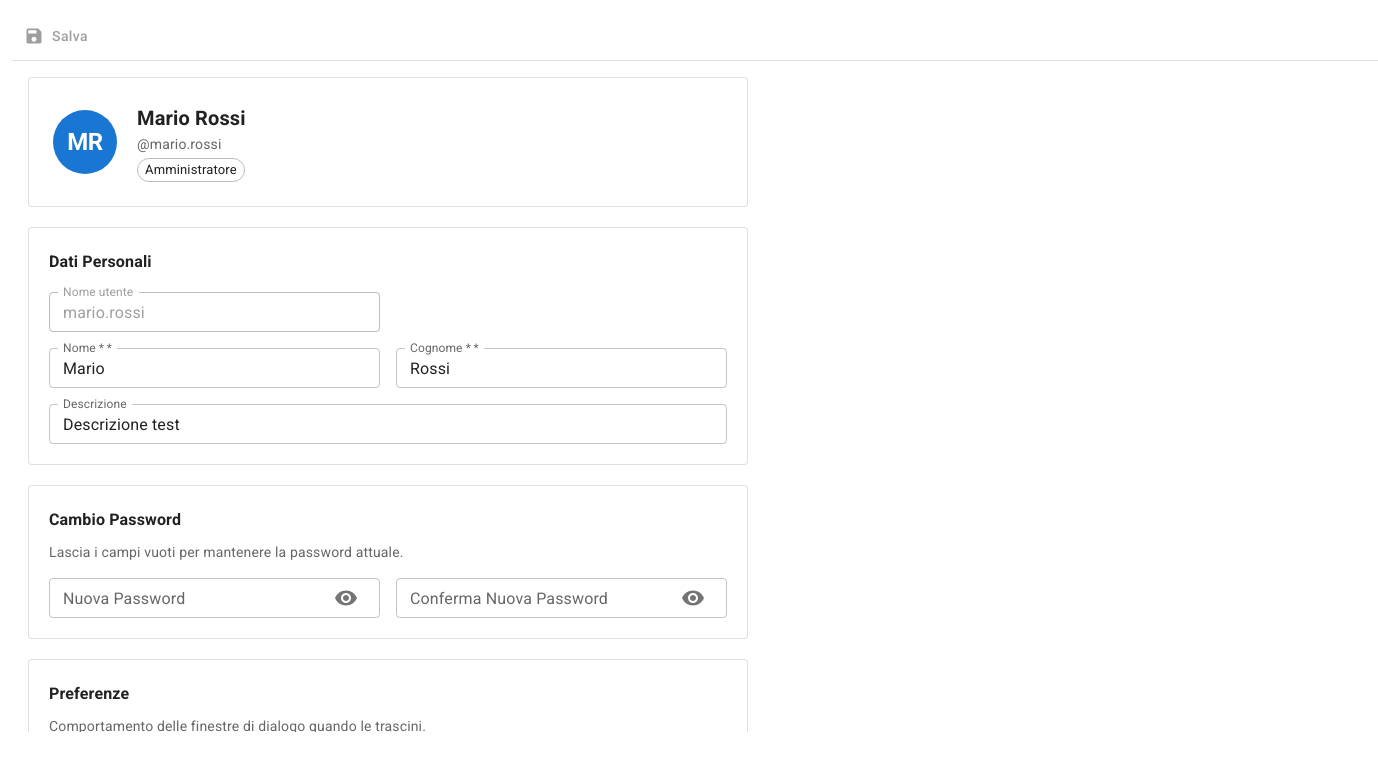
Test: ProfilePage › deve mostrare errore per password mismatch
Type "password123" into the password field labelled "Nuova Password" at (184, 598), box [49,578,318,618]
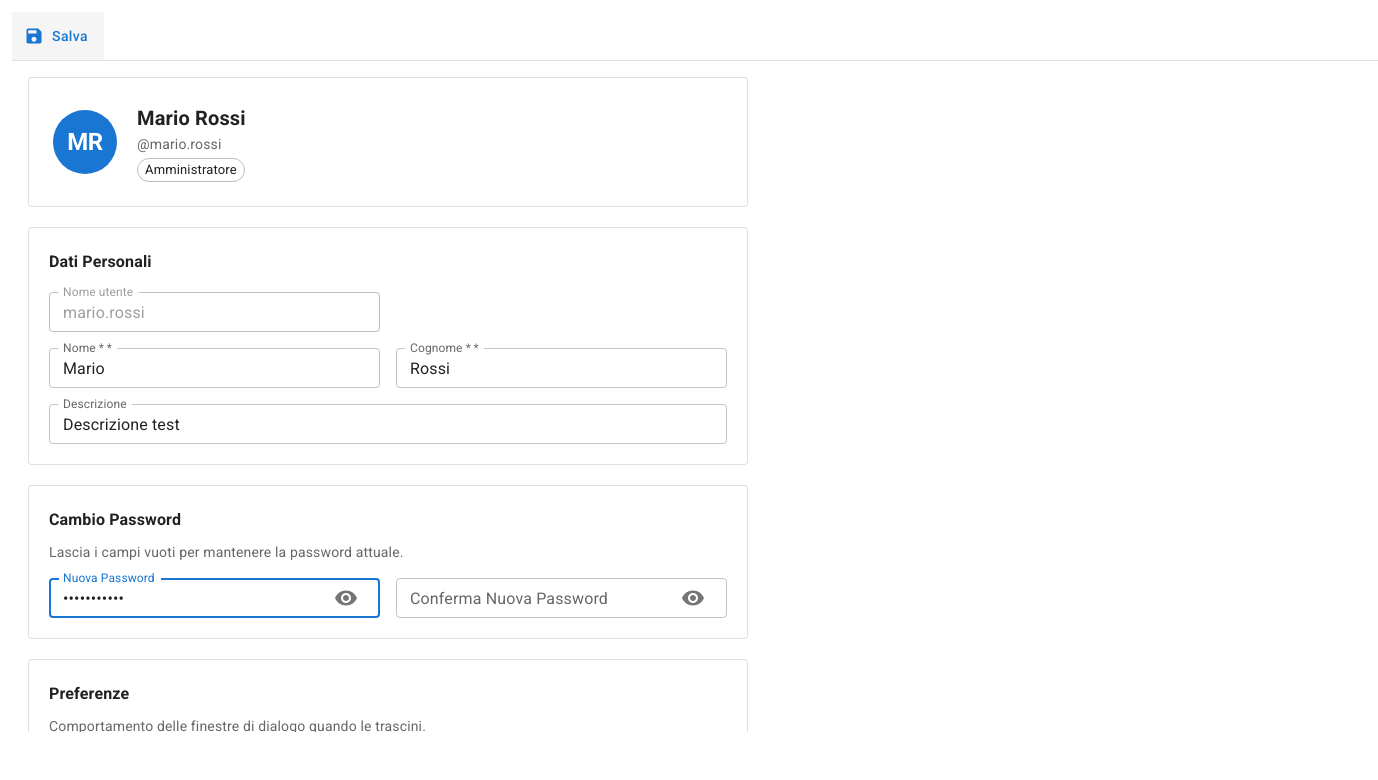
Type "diversa123" into the password field labelled "Conferma Nuova Password" at (530, 598), box [396,578,665,618]
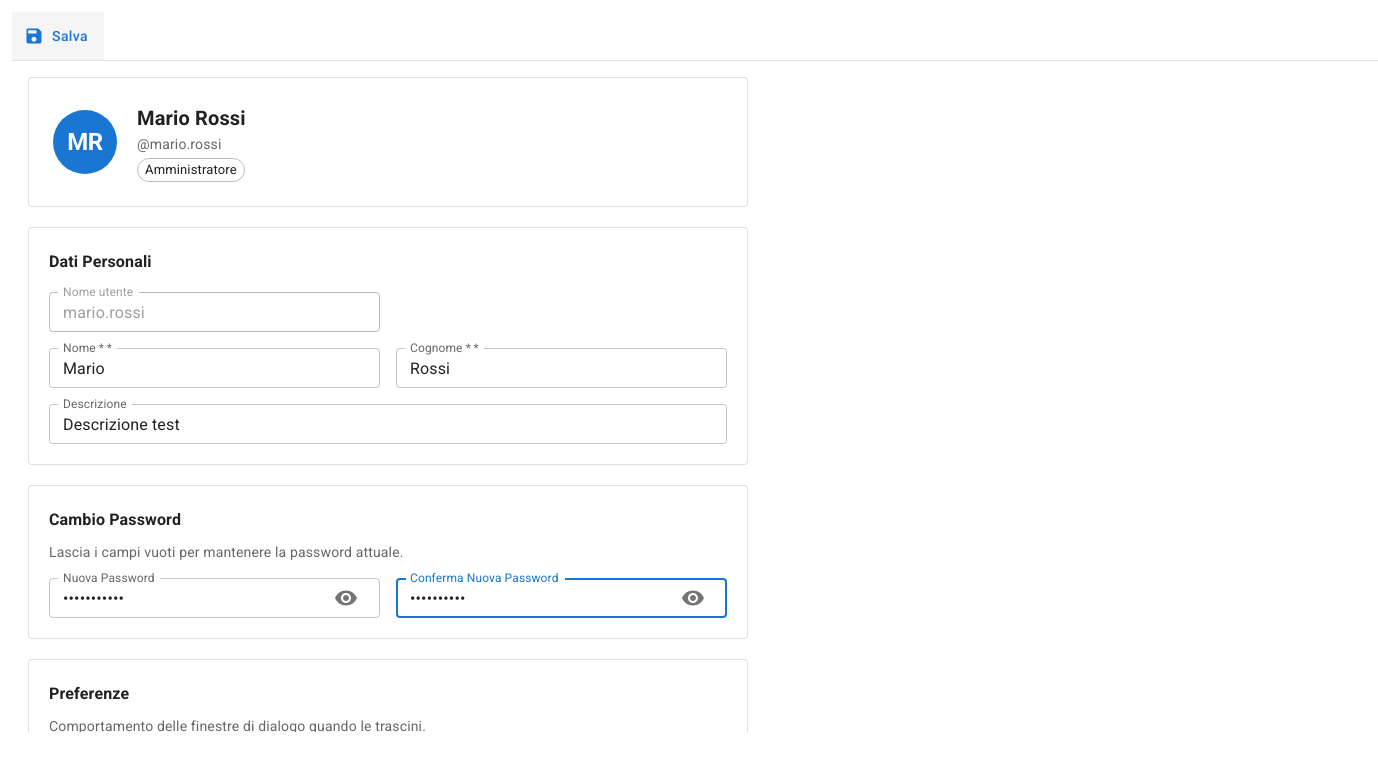
Press Tab
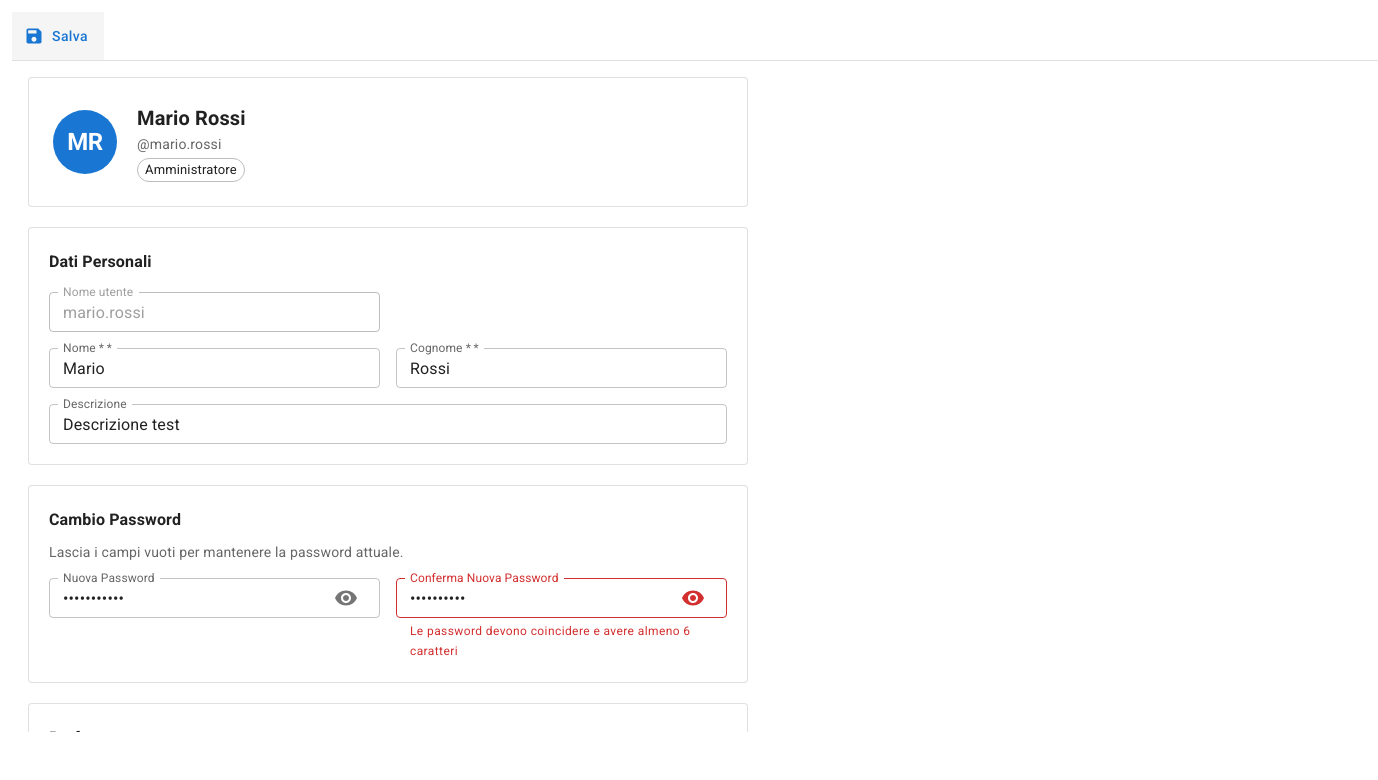
Check: the text "Le password devono coincidere e avere almeno 6 caratteri" is shown, box [410,622,713,662]
